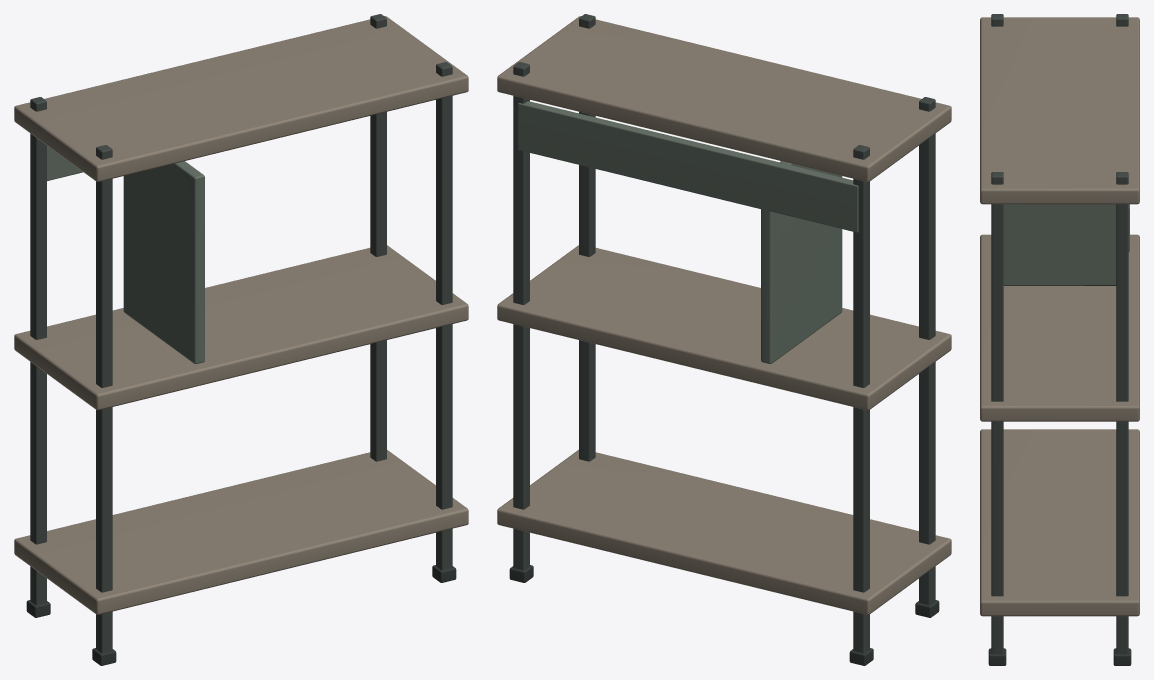
The model's file is SM_Shelf_Small.glb.
3 renders of one model, left to right at view 1: azimuth 30°, elevation 25°; view 2: azimuth 150°, elevation 25°; view 3: azimuth 270°, elevation 25°, orthographic. The views are drawn at different scales.
Parts seen in each view (by area): view 1: SM_Shelf_Small__Body; view 2: SM_Shelf_Small__Body; view 3: SM_Shelf_Small__Body.
Part boxes in pixels (x1,y1,x2,y2): SM_Shelf_Small__Body: (14, 14, 468, 665); SM_Shelf_Small__Body: (497, 14, 951, 665); SM_Shelf_Small__Body: (980, 14, 1139, 665).
Bounding box in the file's own units: 0.82 × 1.08 × 0.32.
